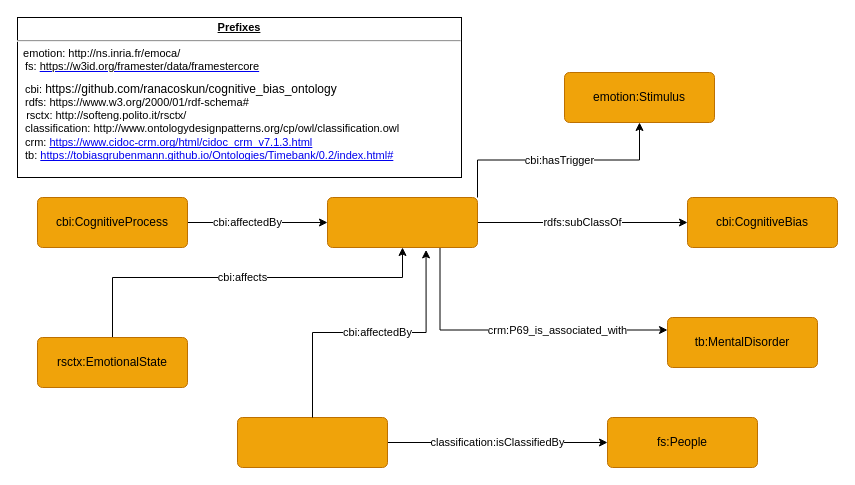
The diagram is 855 pixels wide and 485 high, and some of its shapes have lost their labels. The box of each missing label's shape, as (x1, y1, x2, y2) in pixels:
cbi:AttentionalBias: (326, 196, 478, 248)
cbi:BiasedAgent: (236, 416, 388, 468)
